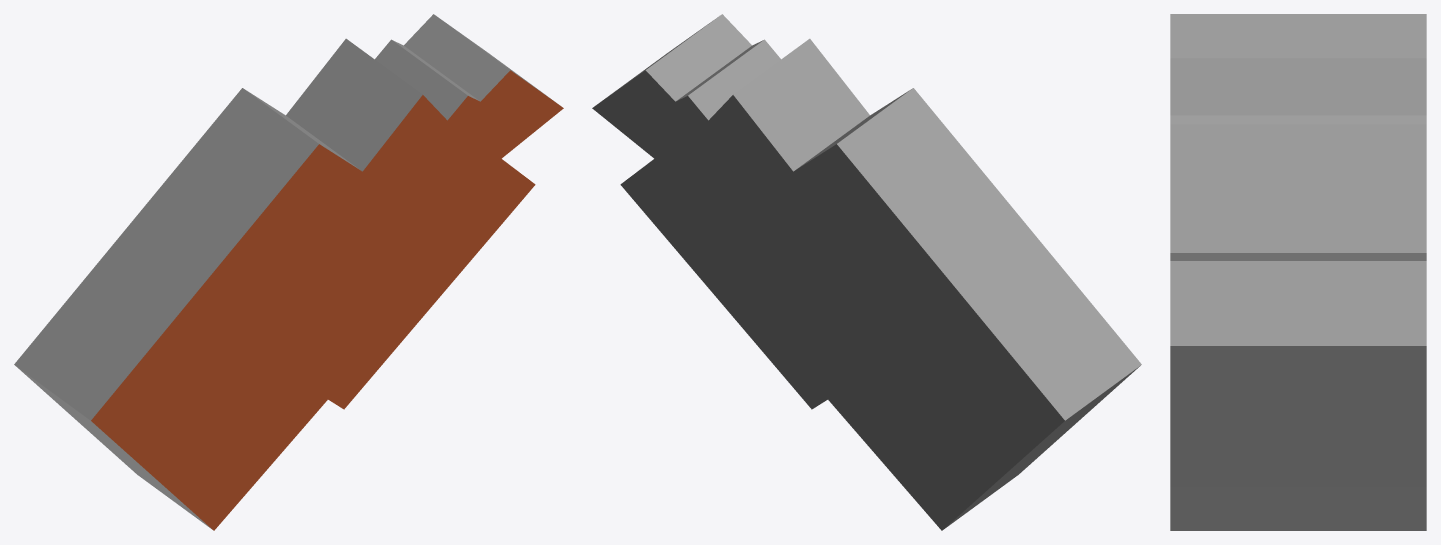
Rendered from construction_2440_assumed_A_Casa_h6m.obj.
3 views of the same model, side by side, from view 1: azimuth 30°, elevation 25°; view 2: azimuth 150°, elevation 25°; view 3: azimuth 270°, elevation 25° (orthographic). The views are drawn at different scales.
Visible parts, largest first — view 1: construction_2440_assumed_A_Casa; view 2: construction_2440_assumed_A_Casa; view 3: construction_2440_assumed_A_Casa.
Boxes of the visible parts, x1,y1,x2,y2 form: construction_2440_assumed_A_Casa: (14, 14, 563, 530); construction_2440_assumed_A_Casa: (592, 14, 1141, 530); construction_2440_assumed_A_Casa: (1170, 14, 1426, 530).
Size of the model in its own units: 21.33 by 16.74 by 6.
